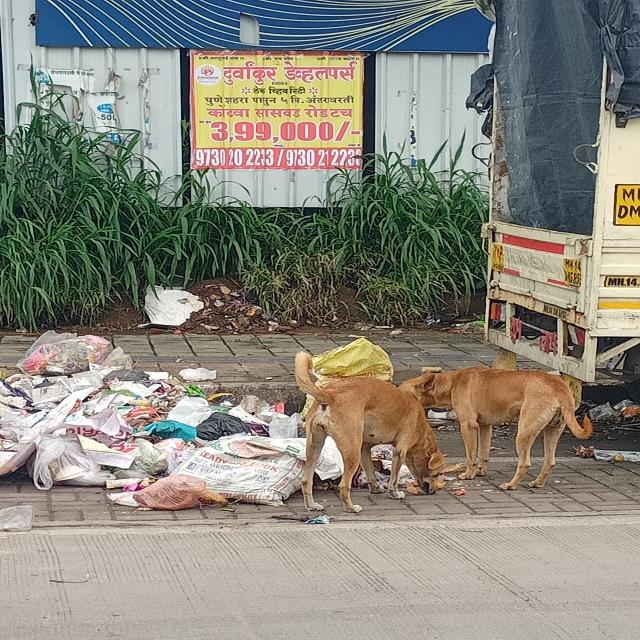garbage: (2, 334, 386, 541)
